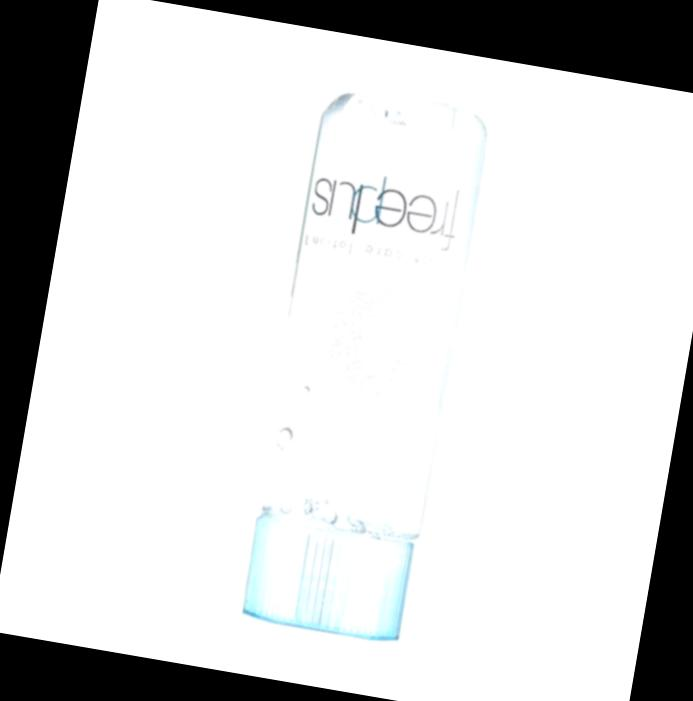cosmetic: (234, 81, 489, 639)
